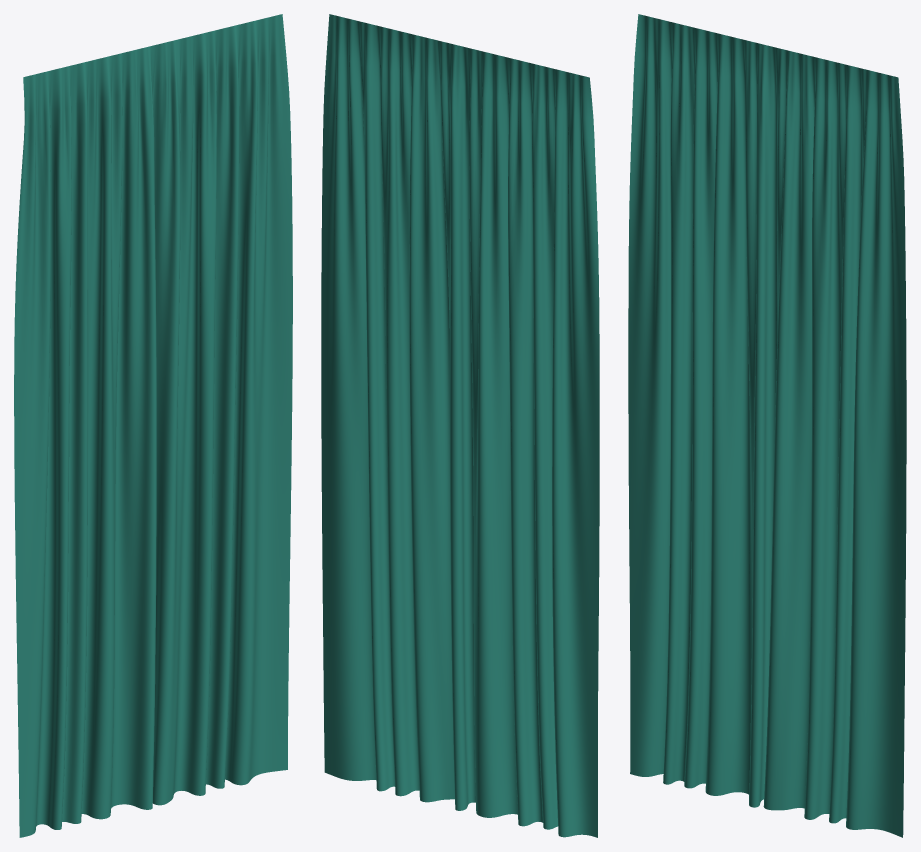
File: curtain_wet_cloth.glb
3 renders of one model, left to right at view 1: azimuth 30°, elevation 25°; view 2: azimuth 150°, elevation 25°; view 3: azimuth 330°, elevation 25°, orthographic.
Visible parts, largest first — view 1: Plane001; view 2: Plane001; view 3: Plane001.
Part boxes in pixels (box(x1,y1,x2,y2)): Plane001: box(14, 14, 292, 837); Plane001: box(321, 14, 599, 837); Plane001: box(628, 14, 906, 837).
Bounding box in the file's own units: 1.18 × 3.08 × 0.1031.
